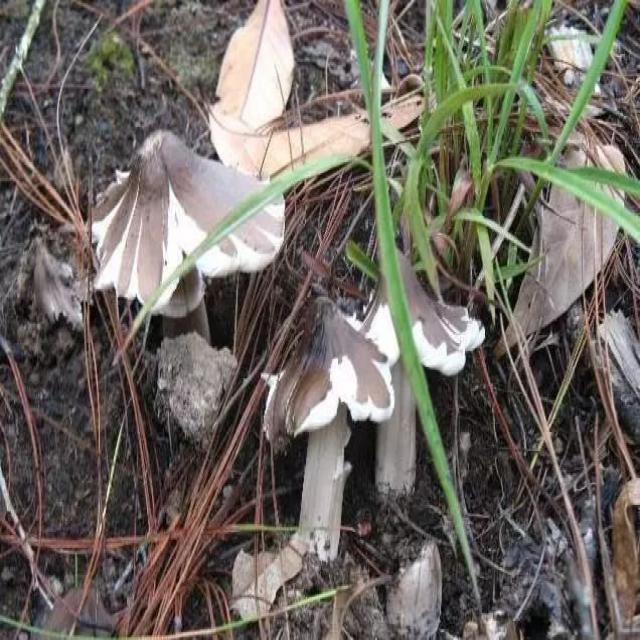Collybia albuminosa: (86, 129, 286, 303), (267, 301, 395, 566), (363, 247, 483, 515)
